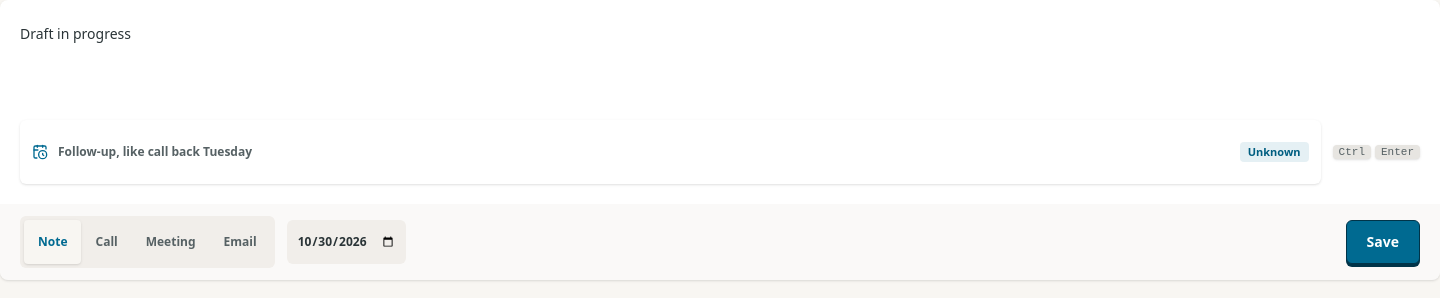
Test: drafts › writes what is typed, and flushes when the page is hidden
Expected: the field labelled "Draft in progress" is shown, [20,24,131,43]
In the field labelled "Follow-up": (645, 152) [58,130,1232,174], type "Follow up"
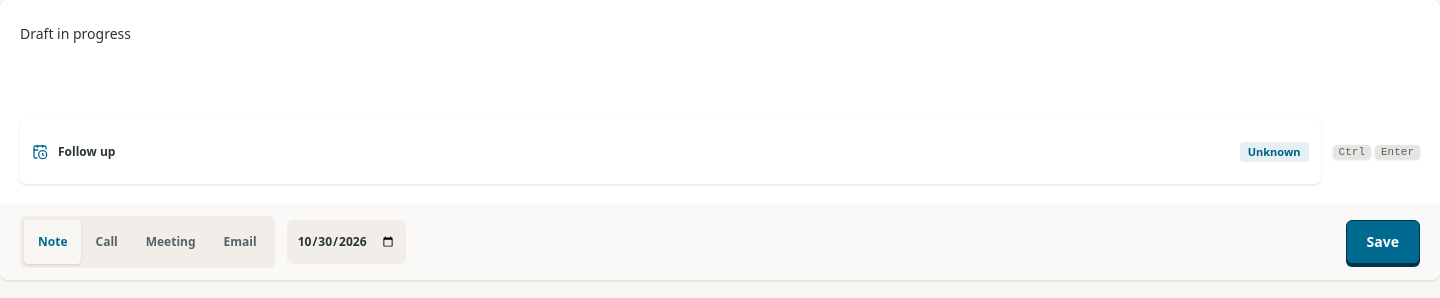
Click the radio button labelled "Email": click(240, 242) [210,220,271,264]
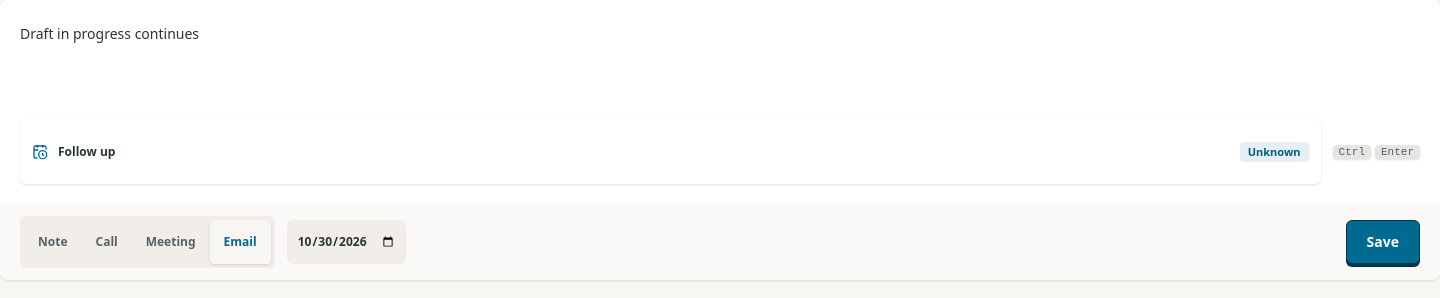
Now the field labelled "Draft in progress continues" is shown, box [20,24,199,43]
